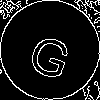G: (25, 25, 78, 82)
